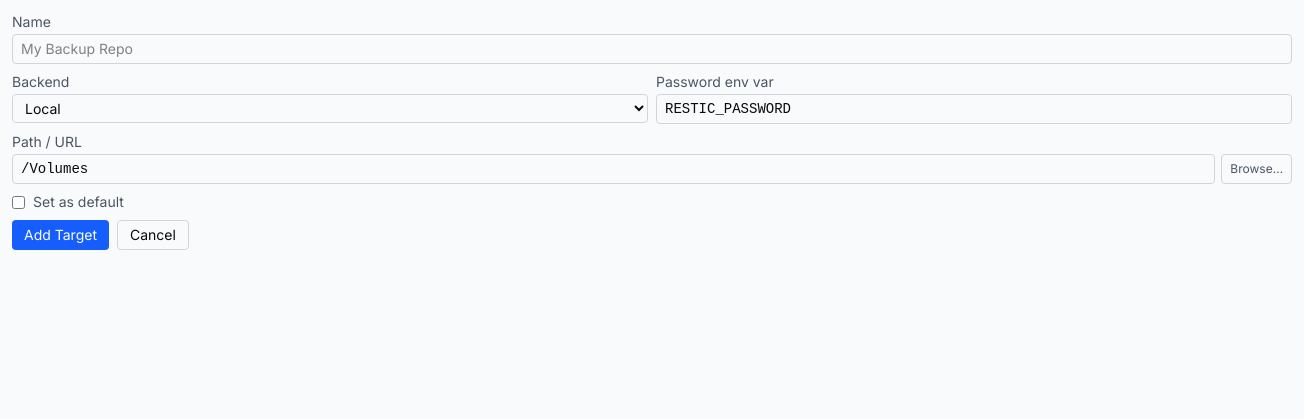
Test: StorageTargetForm › navigates into a subdirectory when a dir entry is clicked
The image size is (1304, 419).
Click the button "Browse…": {"x": 1257, "y": 169} [1221,154,1292,184]
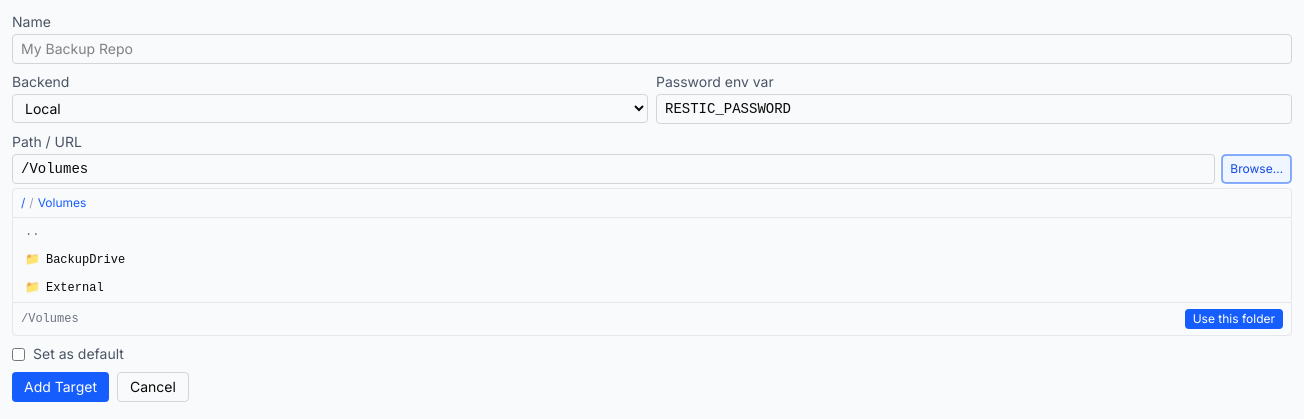
Now the button "📁 BackupDrive" is shown
Click the button "📁 BackupDrive": {"x": 86, "y": 260} [13,246,1291,274]
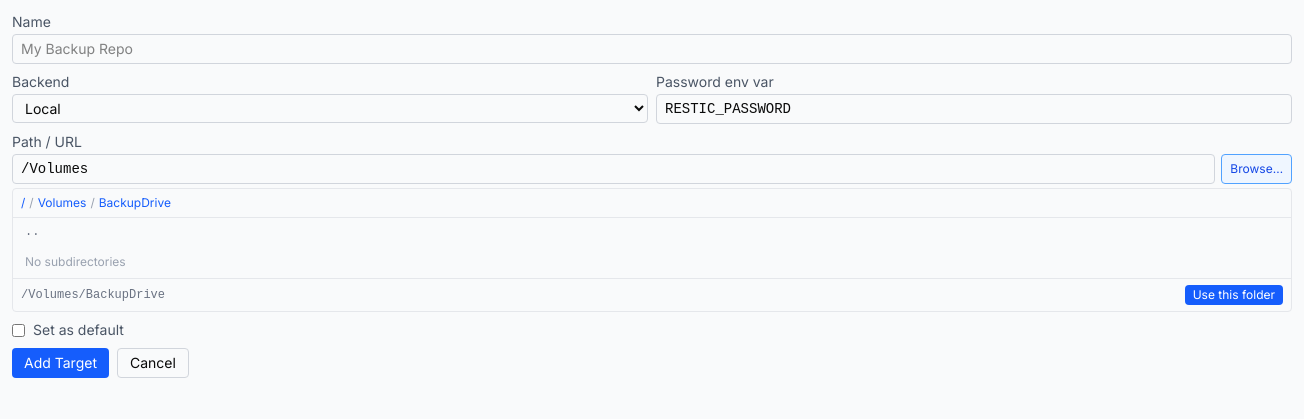
Now the text "No subdirectories" is shown, box [25,254,126,269]
